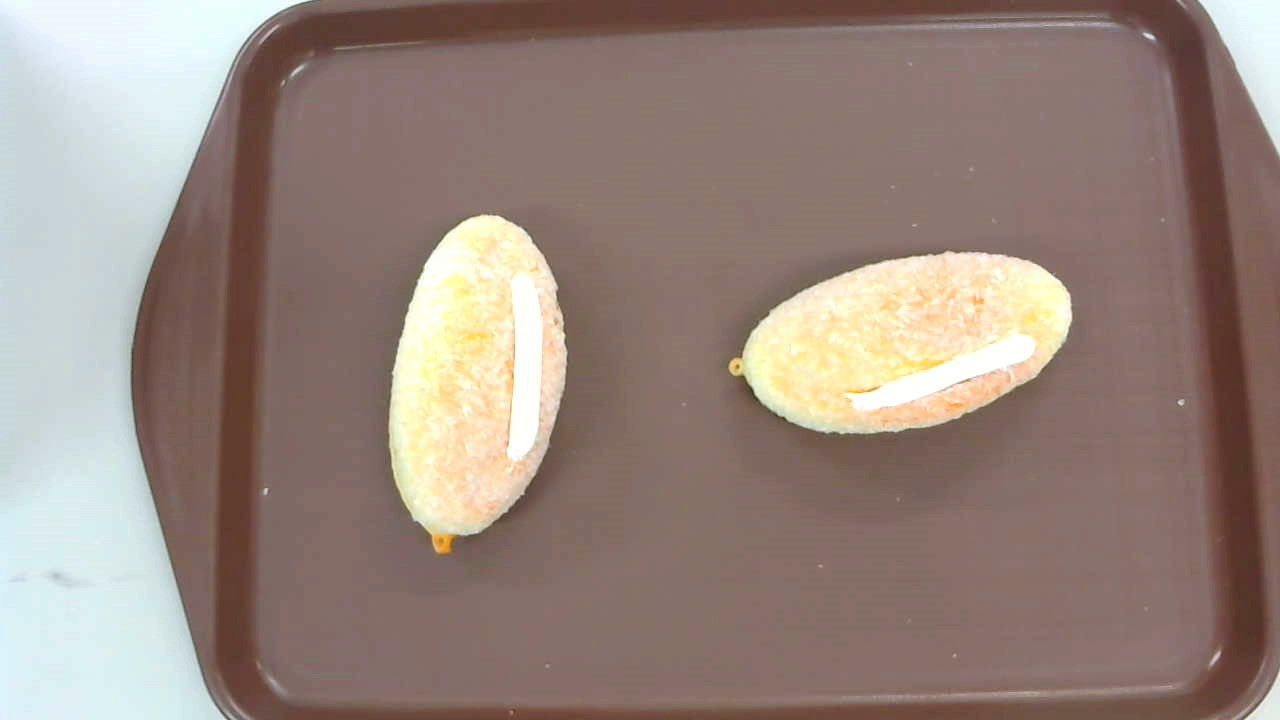coconut: (729, 248, 1073, 436), (388, 215, 569, 553)
